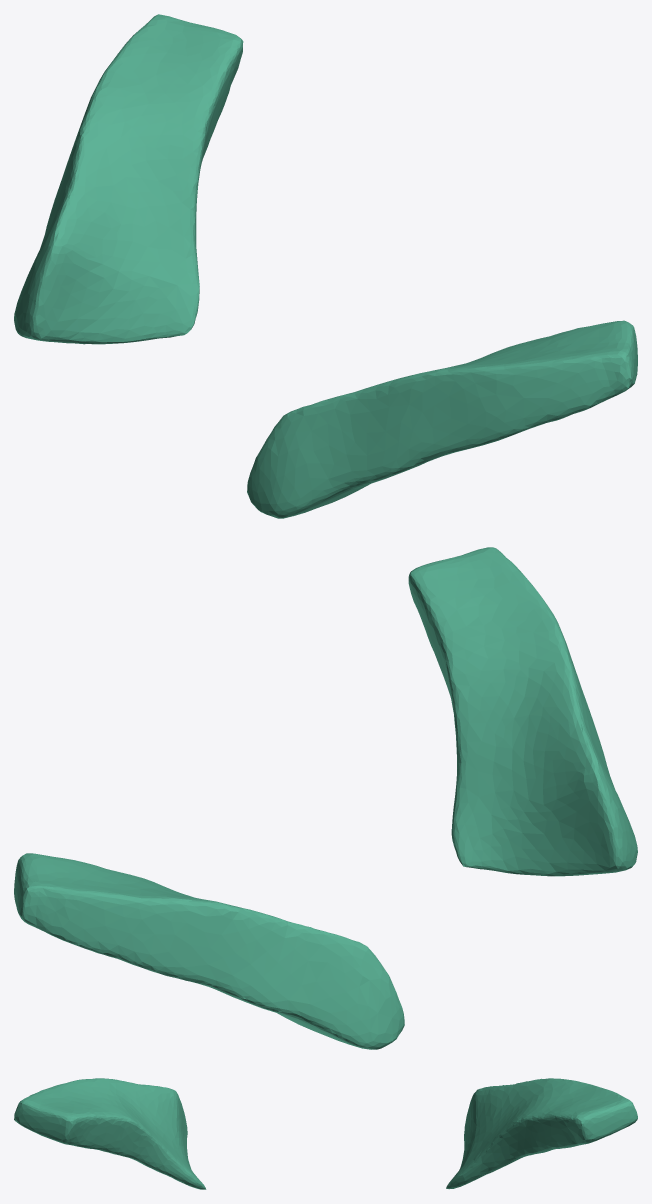
3 views of the same model, one above another, from view 1: azimuth 30°, elevation 25°; view 2: azimuth 150°, elevation 25°; view 3: azimuth 270°, elevation 25° (orthographic). The views are drawn at different scales.
Visible parts, largest first — view 1: 104.obj; view 2: 104.obj; view 3: 104.obj.
Part boxes in pixels (x1,y1,x2,y2): 104.obj: (14, 14, 637, 518); 104.obj: (14, 547, 637, 1049); 104.obj: (14, 1078, 637, 1189).
Bounding box in the file's own units: 2952 × 1845 × 8098.
